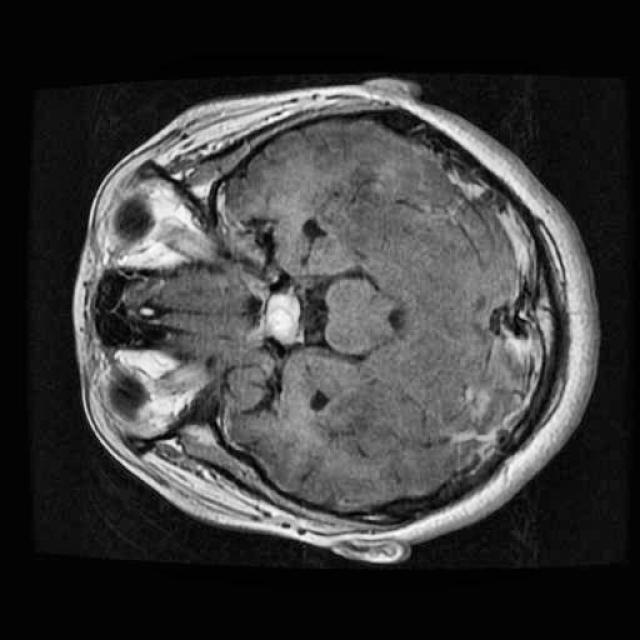Tumor: (261, 281, 312, 350)
